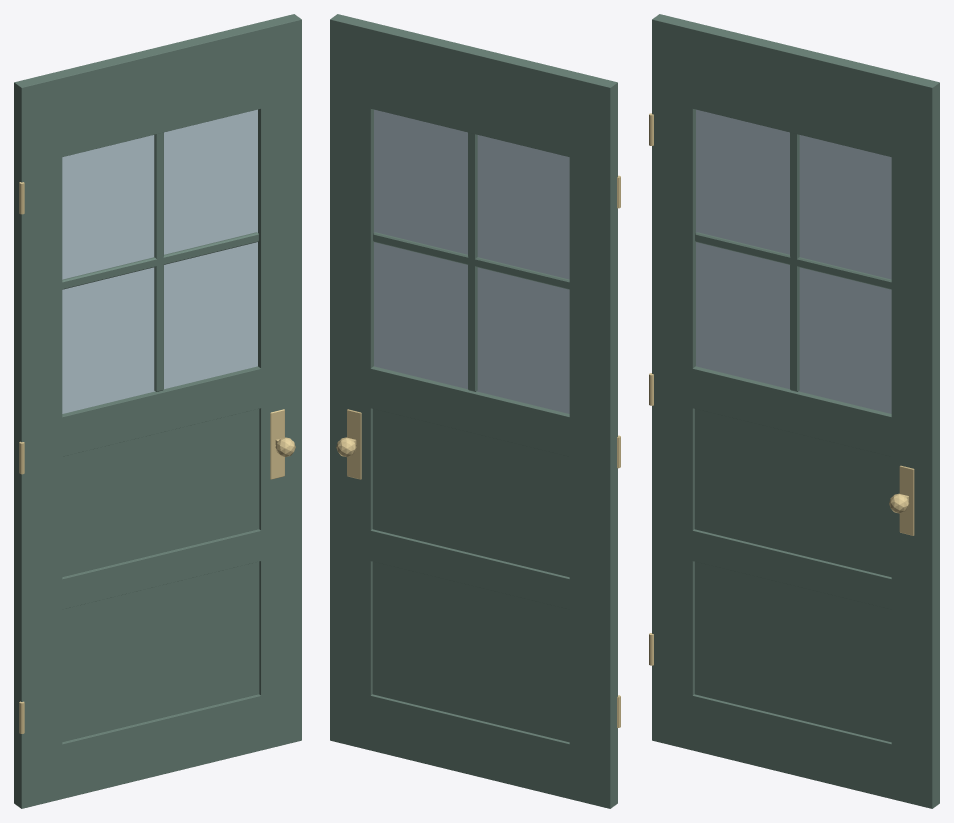
Rendered from door_leaf_side.glb.
The picture shows the model from 3 angles, left to right: view 1: azimuth 30°, elevation 25°; view 2: azimuth 150°, elevation 25°; view 3: azimuth 330°, elevation 25°; orthographic projection.
Parts seen in each view (by area): view 1: door_leaf_side_door, door_leaf_side_glass, door_leaf_side_brass; view 2: door_leaf_side_door, door_leaf_side_glass, door_leaf_side_brass; view 3: door_leaf_side_door, door_leaf_side_glass, door_leaf_side_brass.
Boxes of the visible parts, x1=… form: door_leaf_side_door: x1=14, y1=14, x2=301, y2=808; door_leaf_side_glass: x1=62, y1=109, x2=257, y2=413; door_leaf_side_brass: x1=19, y1=182, x2=295, y2=733; door_leaf_side_door: x1=330, y1=14, x2=617, y2=808; door_leaf_side_glass: x1=374, y1=109, x2=569, y2=413; door_leaf_side_brass: x1=336, y1=175, x2=620, y2=727; door_leaf_side_door: x1=652, y1=14, x2=939, y2=808; door_leaf_side_glass: x1=696, y1=109, x2=891, y2=413; door_leaf_side_brass: x1=649, y1=113, x2=914, y2=665.
Size of the model in its own units: 0.968 by 2.36 by 0.205.
